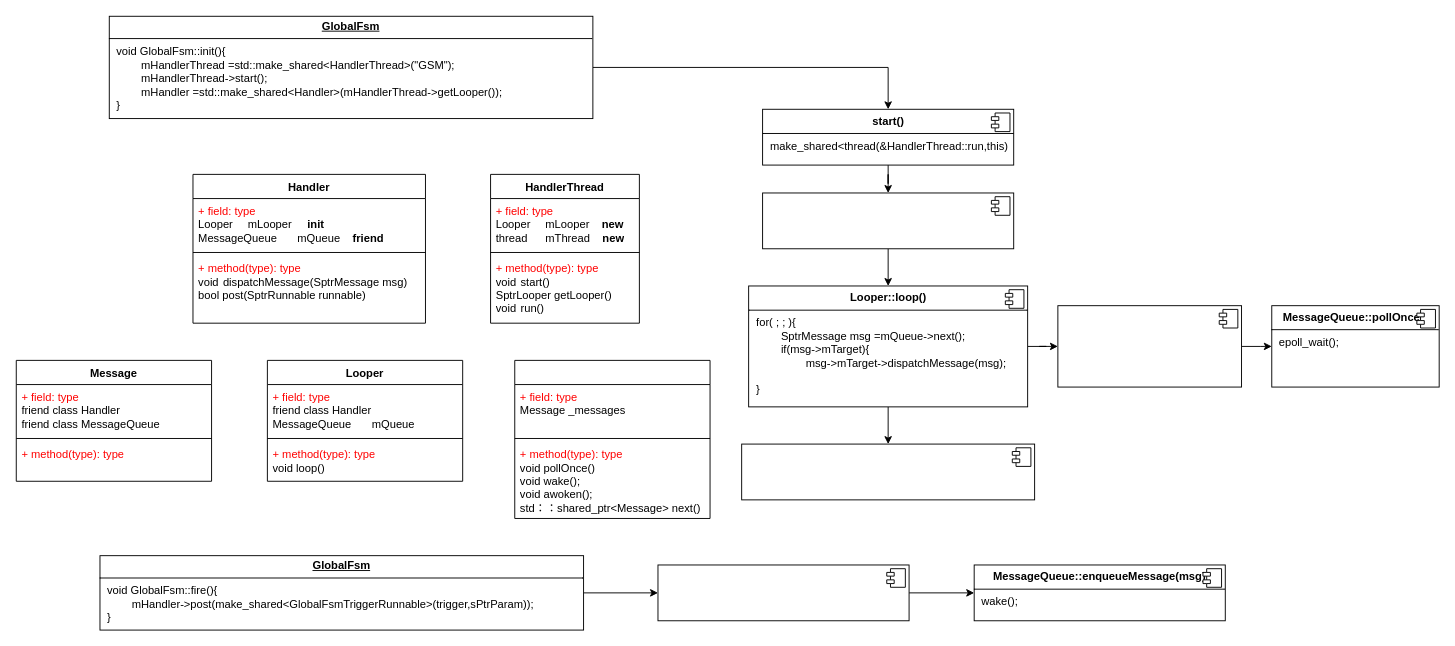
Some shapes in this 1455 by 646 pixel diagram are drawn without their labels. Here are the shapes that lost their labels. From the top down, the box of each, then its label:
(762, 192, 1014, 249): run() mLooper->loop();
(1057, 305, 1242, 387): MessageQueue::next() for(;;){ pollOnce(); }
(514, 359, 710, 518): MessageQueue
(741, 443, 1035, 500): Handler::dispatchMessage(SptrMessage msg) msg->mCallback->run();
(657, 564, 909, 621): Handler::post() mQueue->enqueueMessaage(msg,uptimeMills);
